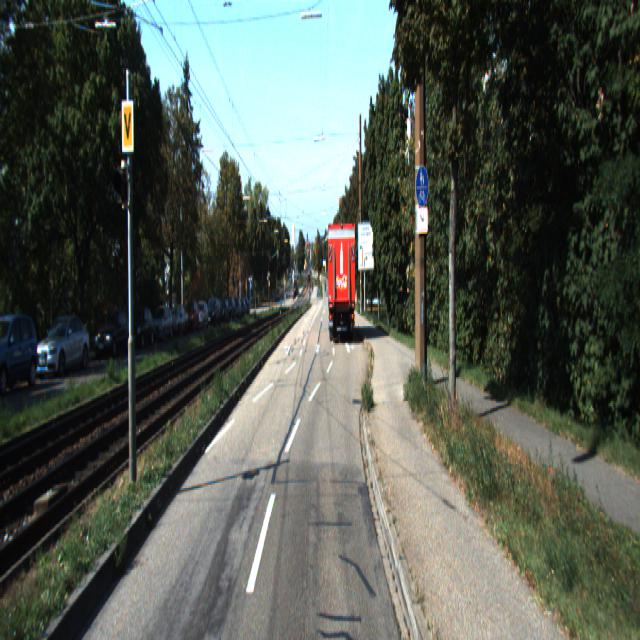Car: (326, 218, 357, 342), (0, 314, 44, 401), (35, 316, 92, 382), (93, 309, 133, 360), (127, 307, 155, 352), (149, 308, 173, 346), (182, 302, 200, 336)
